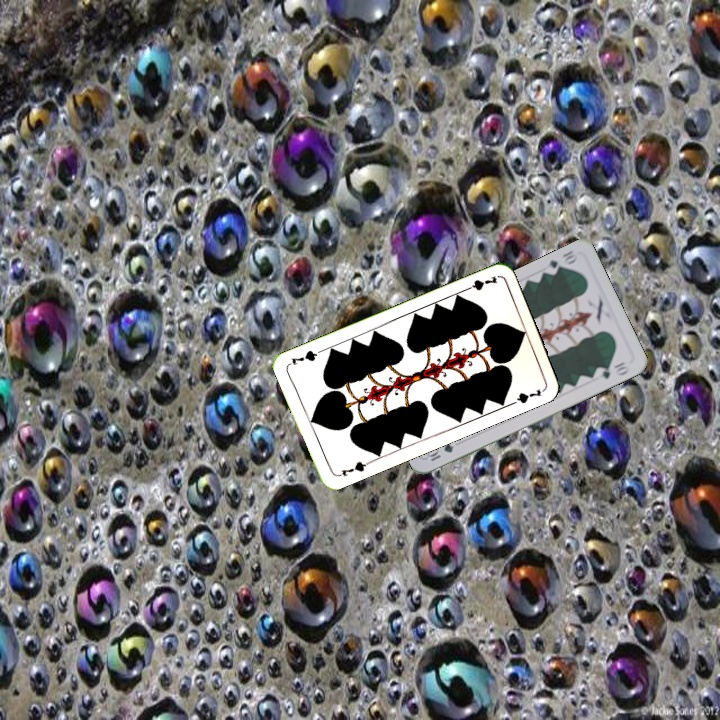G10: (541, 246, 580, 278), (422, 439, 456, 464)
G7: (460, 272, 500, 294), (333, 457, 372, 479)
